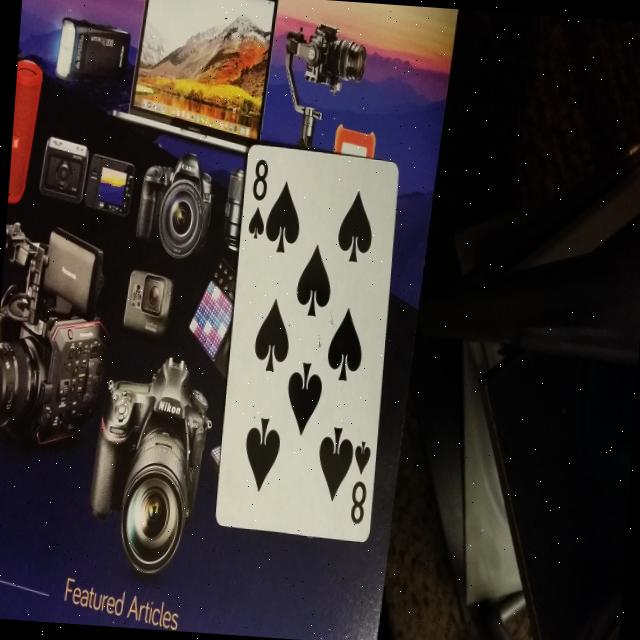8s: (343, 432, 376, 533), (242, 152, 275, 252)
